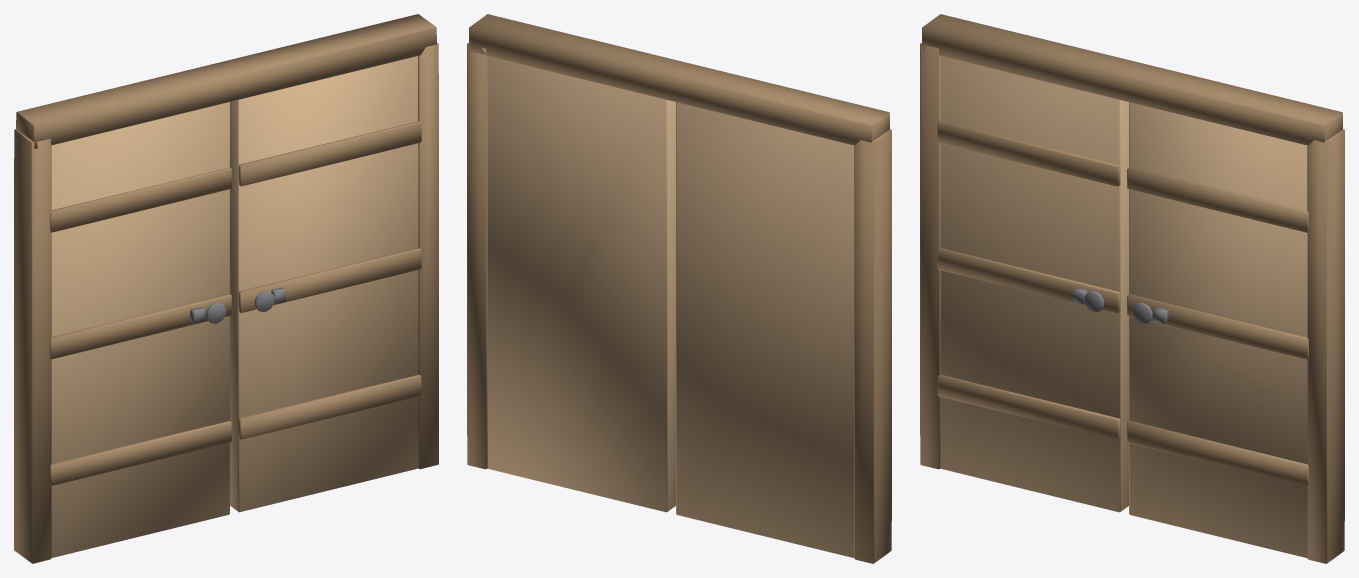
File: struct_door_double.glb
3 views of the same model, side by side, from view 1: azimuth 30°, elevation 25°; view 2: azimuth 150°, elevation 25°; view 3: azimuth 330°, elevation 25° (orthographic).
Visible parts, largest first — view 1: struct_door_double; view 2: struct_door_double; view 3: struct_door_double.
Part boxes in pixels (x1,y1,x2,y2): struct_door_double: [14, 14, 438, 563]; struct_door_double: [467, 14, 891, 563]; struct_door_double: [920, 14, 1344, 563].
Size of the model in its own units: 2.02 by 2.08 by 0.21.
